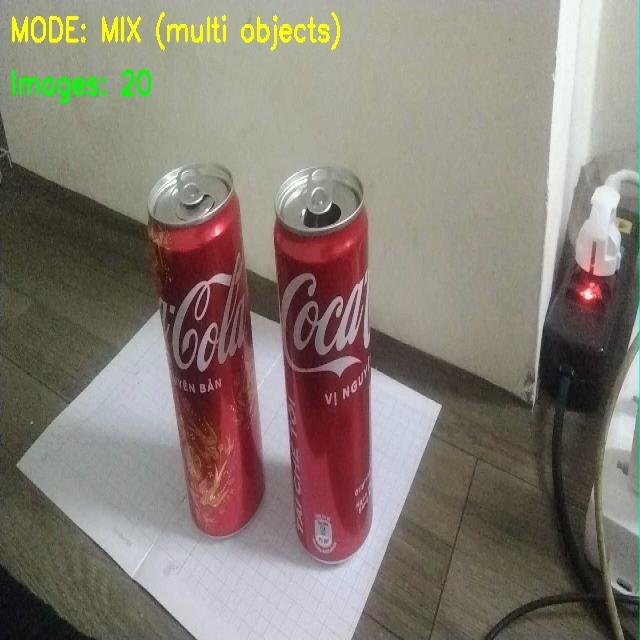Coca: (129, 151, 270, 552)
Coca_open: (277, 146, 418, 555)
